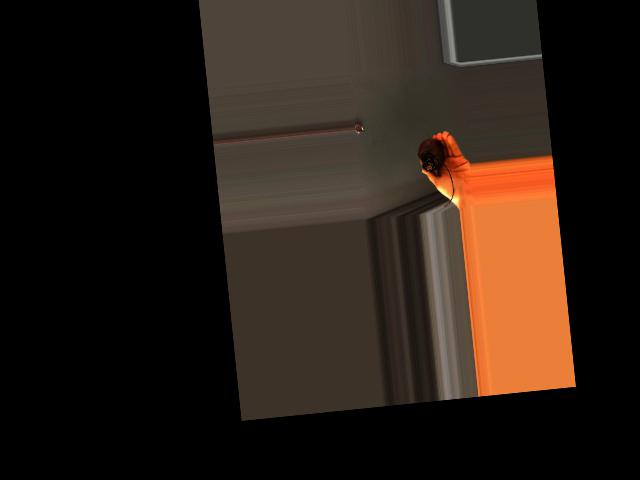beet: (416, 128, 456, 208)
